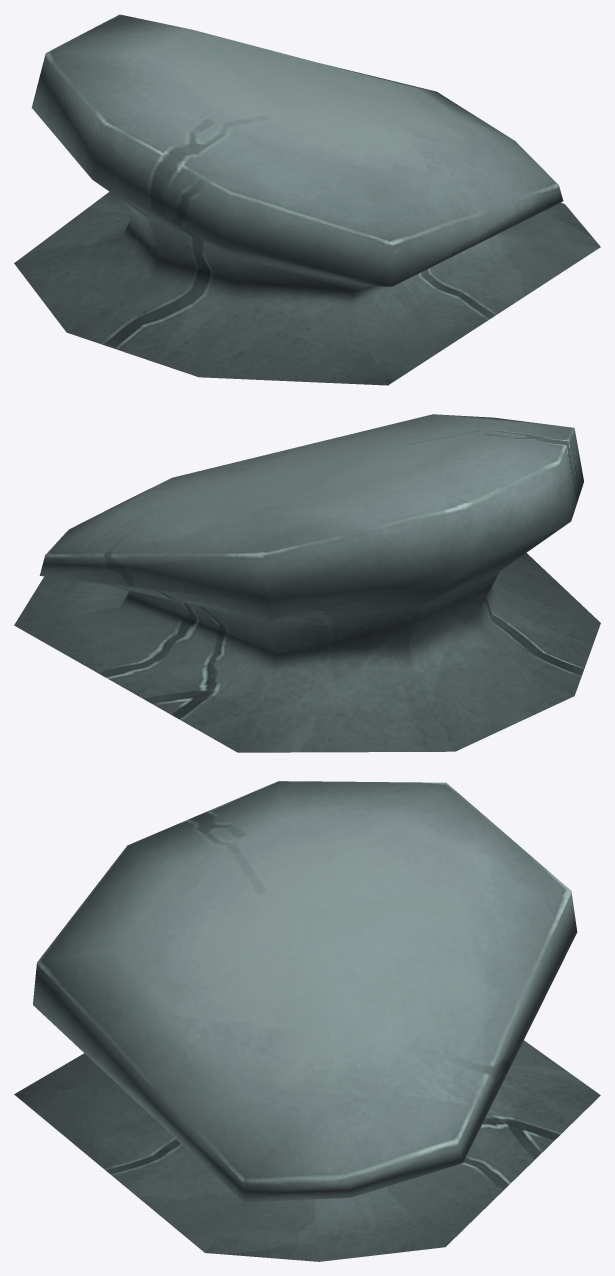
Rendered from Rock 9.fbx.
3 renders of one model, top to bottom at view 1: azimuth 30°, elevation 25°; view 2: azimuth 150°, elevation 25°; view 3: azimuth 270°, elevation 25°, orthographic. The views are drawn at different scales.
Parts seen in each view (by area): view 1: pPlane9; view 2: pPlane9; view 3: pPlane9.
Part boxes in pixels (x1=…): pPlane9: x1=14, y1=14, x2=600, y2=385; pPlane9: x1=14, y1=414, x2=600, y2=752; pPlane9: x1=14, y1=781, x2=600, y2=1261.
Bounding box in the file's own units: 7.21 × 3 × 6.73.
